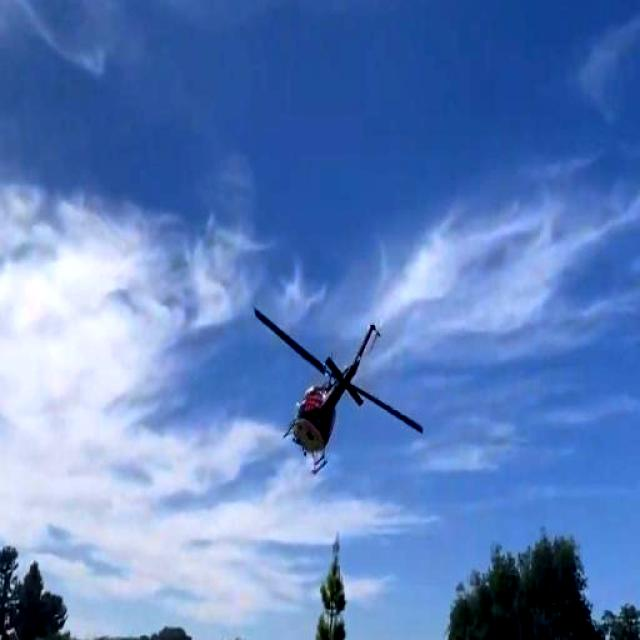drone: (244, 294, 431, 481)
